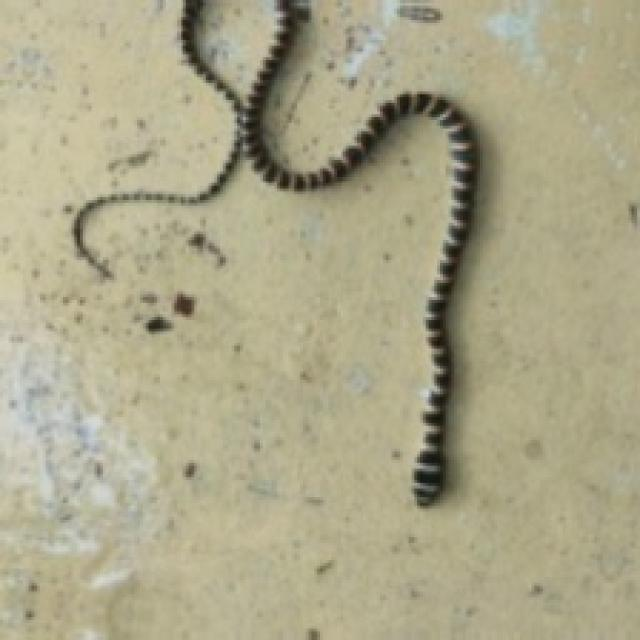paradise tree snake: (74, 0, 475, 504)
